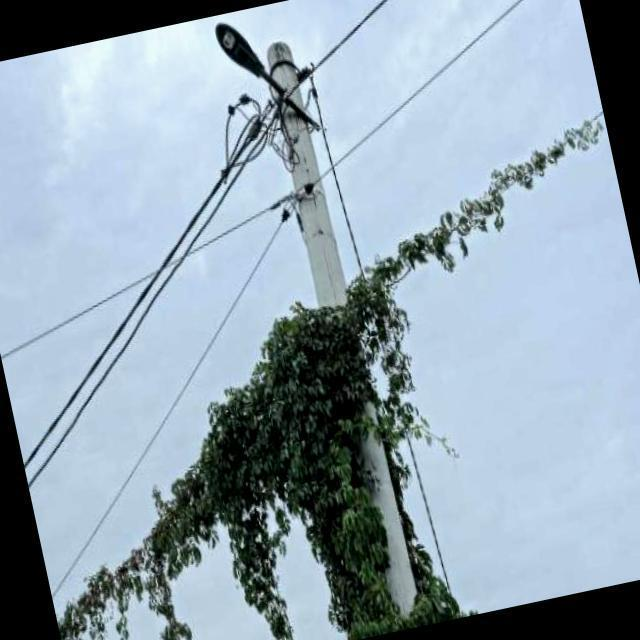critical vegetation: (255, 84, 450, 636), (194, 267, 428, 554)
